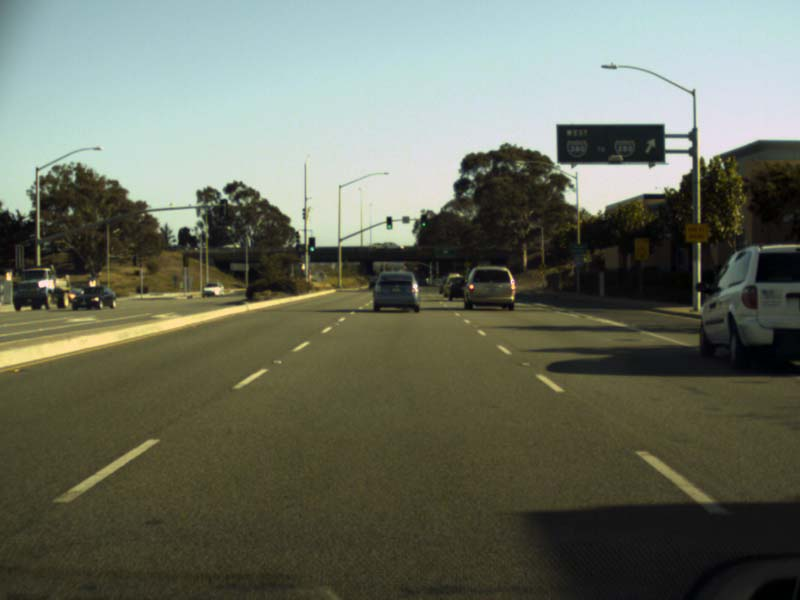Green: (309, 237, 315, 252), (385, 216, 392, 228), (420, 214, 426, 227)
